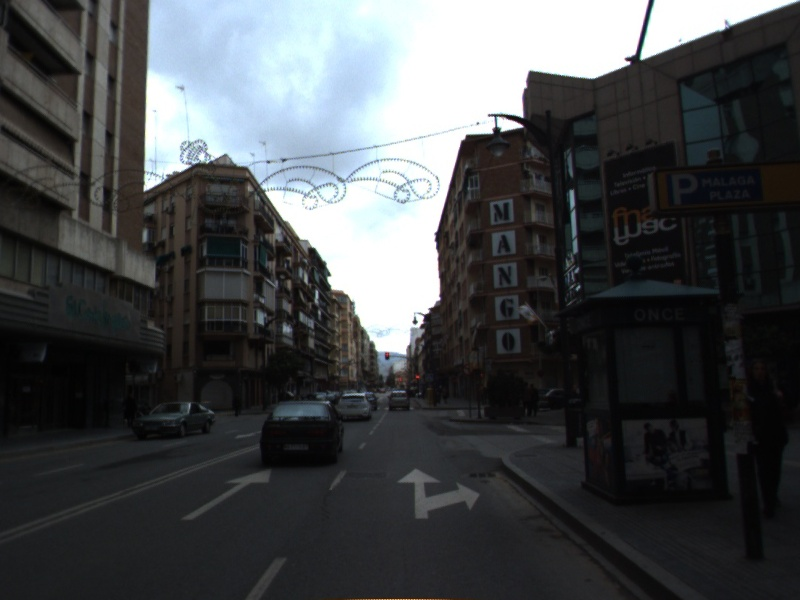STRAIGHT: (179, 467, 273, 522)
STRAIGHT_RIGHT: (395, 466, 482, 522)
